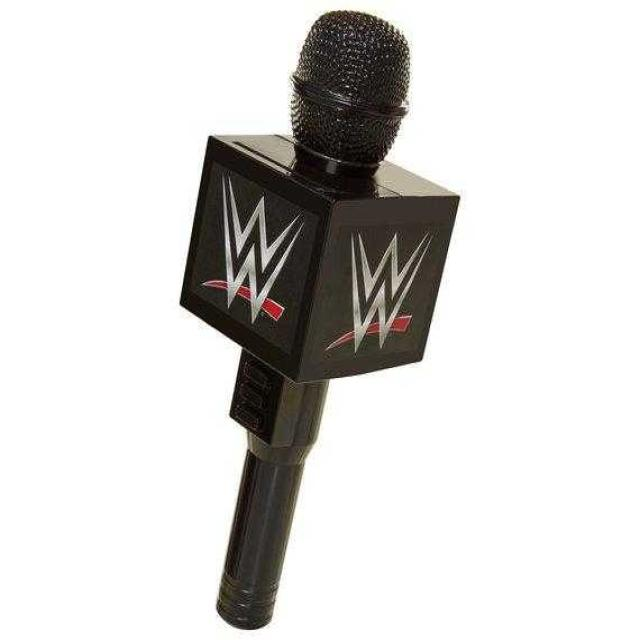microphone: (152, 14, 602, 638)
